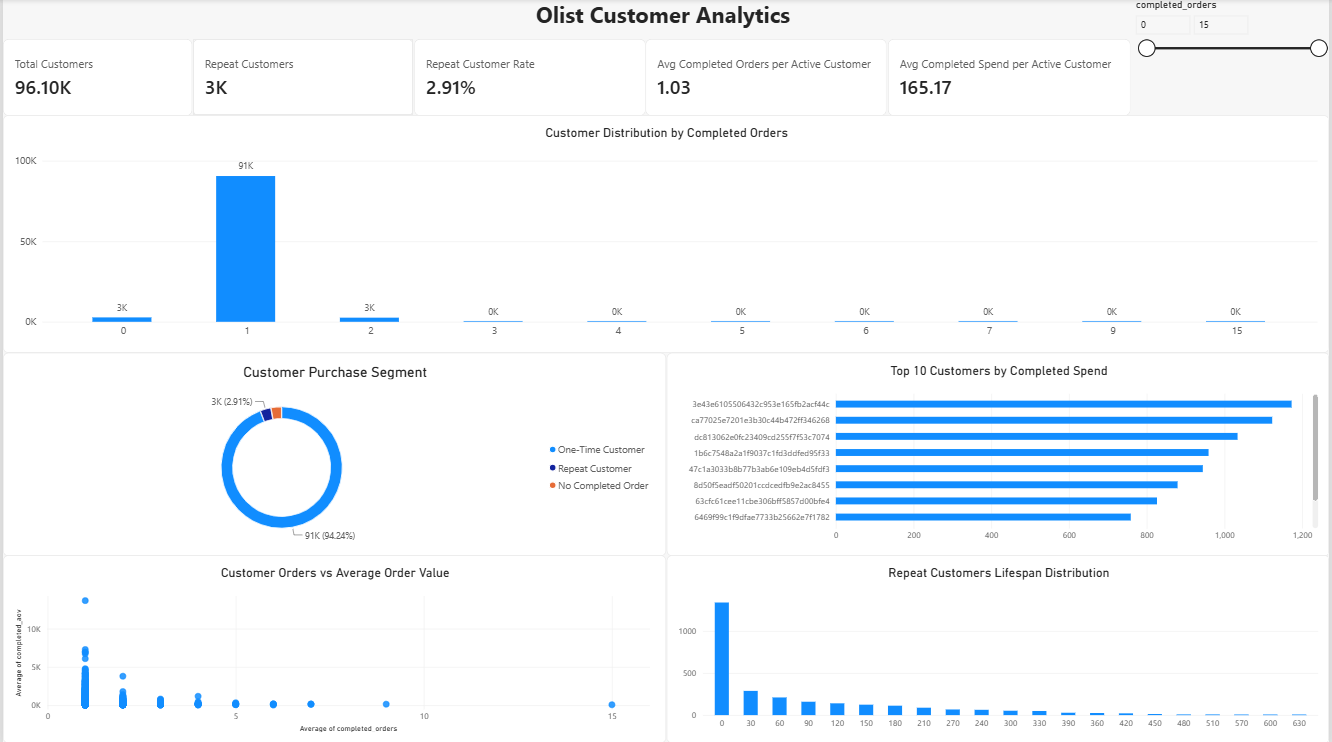

The page's visual inventory and layout, read from the dashboard file:
{"tool":"powerbi","page":{"name":"Customer Analytics","canvas":[1920,1080],"ordinal":1},"visuals":[{"type":"textbox","box":[0,0,1920.1,57.9],"z":0},{"type":"cardVisual","fields":{"Data":["ecommerce customer_level.Total Customers"]},"box":[0,57.7,274.9,111.5],"z":1000},{"type":"cardVisual","fields":{"Data":["ecommerce customer_level.Repeat Customers"]},"box":[274.9,57.7,319.2,111.5],"z":2000},{"type":"cardVisual","title":"hello ","fields":{"Data":["ecommerce customer_level.Repeat Customer Rate"]},"box":[595,58.3,335,111.7],"z":3000},{"type":"cardVisual","fields":{"Data":["ecommerce customer_level.Avg Completed Orders per Active Customer"]},"box":[930,58.3,349.9,111.5],"z":4000},{"type":"cardVisual","fields":{"Data":["ecommerce customer_level.Avg Completed Spend per Active Customer"]},"box":[1280.5,57.7,351.7,111.7],"z":5000},{"type":"clusteredColumnChart","title":"Customer Distribution by Completed Orders","fields":{"Category":["ecommerce customer_level.completed_orders"],"Y":["ecommerce customer_level.Total Customers"]},"box":[0,168.3,1920.1,343.8],"z":6000},{"type":"donutChart","title":"Customer Purchase Segment","fields":{"Category":["Customer Segment.Segment"],"Y":["Customer Segment.Customer Segment Count"]},"box":[0,511.3,960.2,294.7],"z":7000},{"type":"barChart","title":"Top 10 Customers by Completed Spend","fields":{"Category":["ecommerce customer_level.customer_unique_id"],"Y":["Sum(ecommerce customer_level.completed_spend)"]},"box":[960.2,511.3,960.2,294.7],"z":8000},{"type":"scatterChart","title":"Customer Orders vs Average Order Value","fields":{"Category":["ecommerce customer_level.customer_unique_id"],"X":["Avg(ecommerce customer_level.completed_orders)"],"Y":["Avg(ecommerce customer_level.completed_aov)"]},"box":[0,806,960.2,273.2],"z":9000},{"type":"columnChart","title":"Repeat Customers Lifespan Distribution","fields":{"Category":["ecommerce customer_level.customer_lifespan_days (bins)"],"Y":["ecommerce customer_level.Total Customers"]},"box":[960.2,806,960.2,273.2],"z":10000},{"type":"slicer","fields":{"Values":["ecommerce customer_level.completed_orders"]},"box":[1631.6,0,288.8,167.8],"z":11000}]}

Visuals, with their boxes in screenshot pixels (x1, y1, x2, y2), scaled from the page's 1920x1080 canvas onto the 1332x742 screenshot:
textbox: [x1=0, y1=0, x2=1331, y2=40]
cardVisual - ecommerce customer_level.Total Customers: [x1=0, y1=40, x2=191, y2=116]
cardVisual - ecommerce customer_level.Repeat Customers: [x1=191, y1=40, x2=412, y2=116]
"hello " cardVisual: [x1=413, y1=40, x2=645, y2=117]
cardVisual - ecommerce customer_level.Avg Completed Orders per Active Customer: [x1=645, y1=40, x2=888, y2=117]
cardVisual - ecommerce customer_level.Avg Completed Spend per Active Customer: [x1=888, y1=40, x2=1132, y2=116]
"Customer Distribution by Completed Orders" clusteredColumnChart: [x1=0, y1=116, x2=1331, y2=352]
"Customer Purchase Segment" donutChart: [x1=0, y1=351, x2=666, y2=554]
"Top 10 Customers by Completed Spend" barChart: [x1=666, y1=351, x2=1331, y2=554]
"Customer Orders vs Average Order Value" scatterChart: [x1=0, y1=554, x2=666, y2=741]
"Repeat Customers Lifespan Distribution" columnChart: [x1=666, y1=554, x2=1331, y2=741]
slicer - ecommerce customer_level.completed_orders: [x1=1132, y1=0, x2=1331, y2=115]
